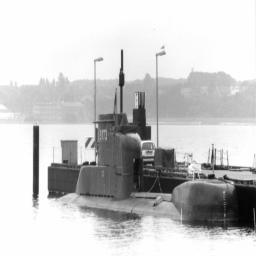submarine: (58, 113, 240, 226)
